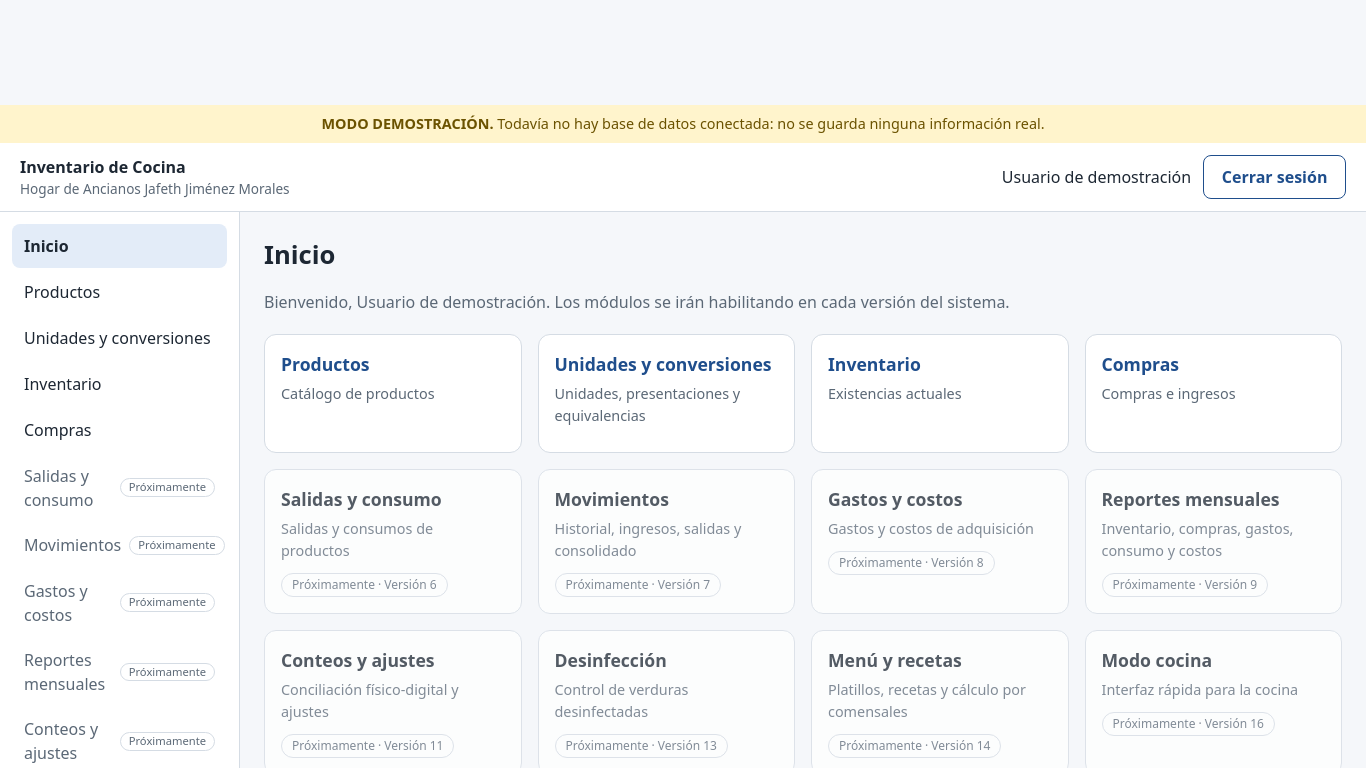
Test case: inventario: lista de existencias › desde el inicio y el menú se llega a Inventario
(page scrolled)
Expected: the heading "Inicio" is shown, [264,237,335,272]
Click the link "Inventario" at (63, 384), box [24,373,102,395]
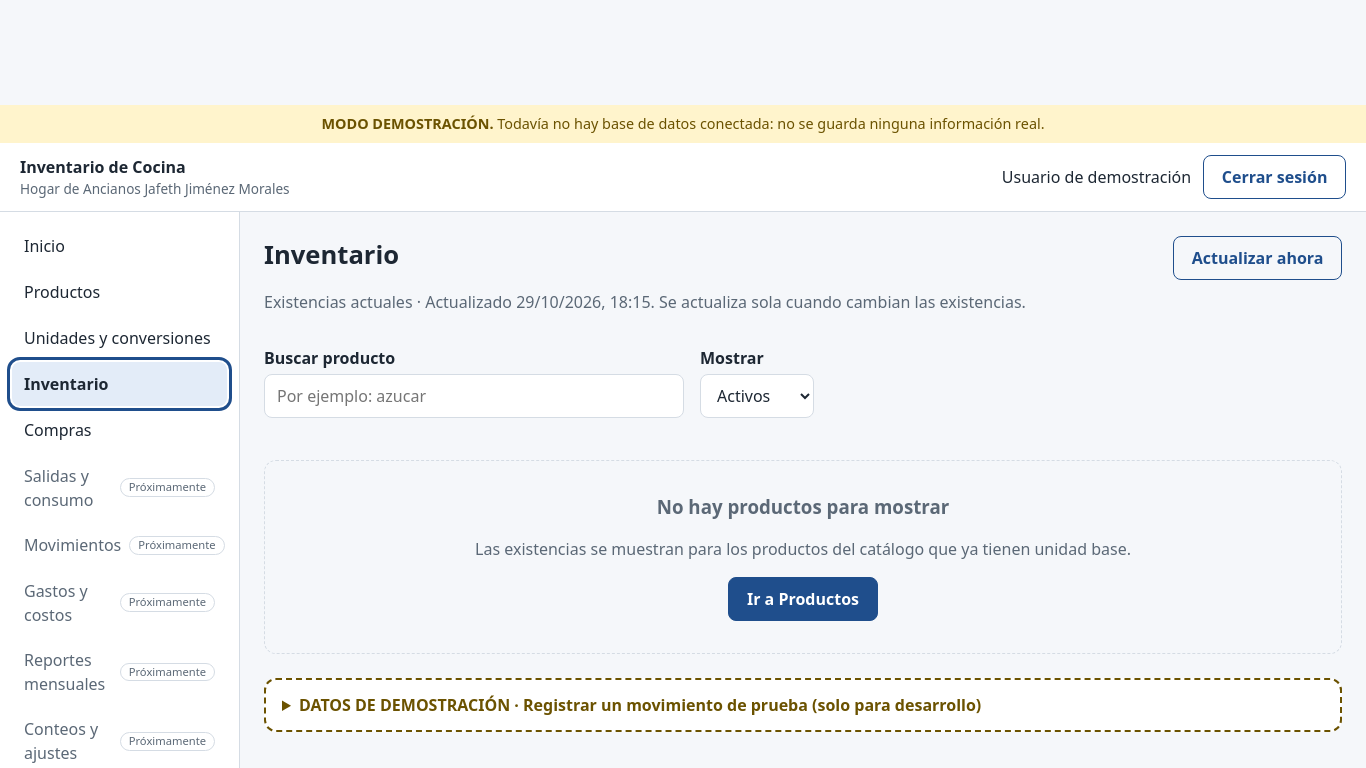
Expected: the heading "Inventario" is shown, [264,237,399,272]
